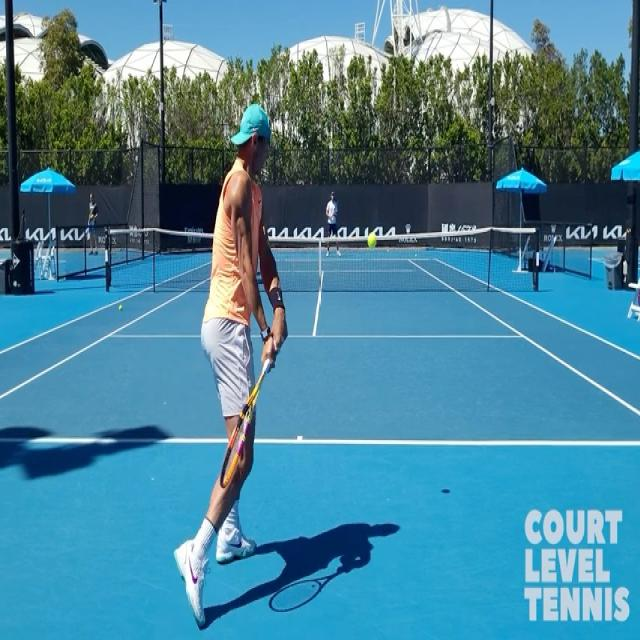backhand-stroke: (166, 109, 296, 632)
